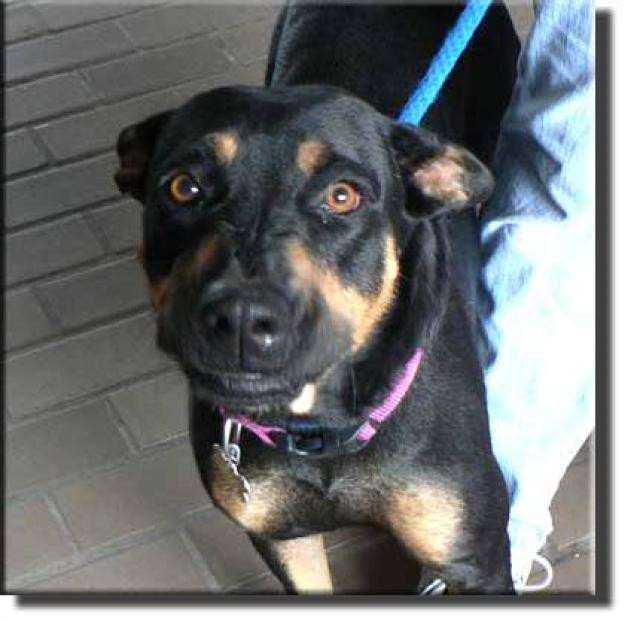dog: (112, 79, 518, 595)
